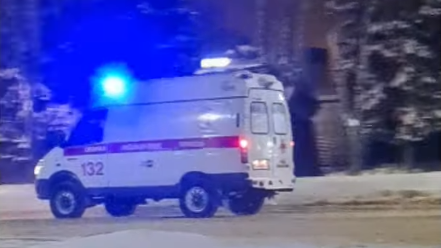ambulance: (34, 69, 295, 218)
